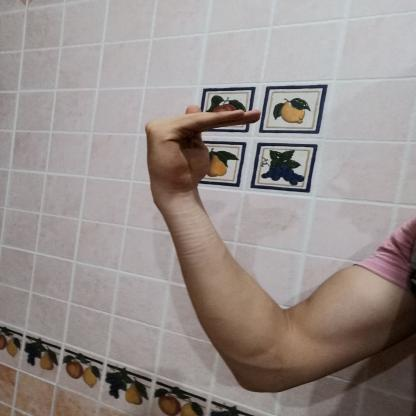KHAA: (133, 100, 270, 198)
